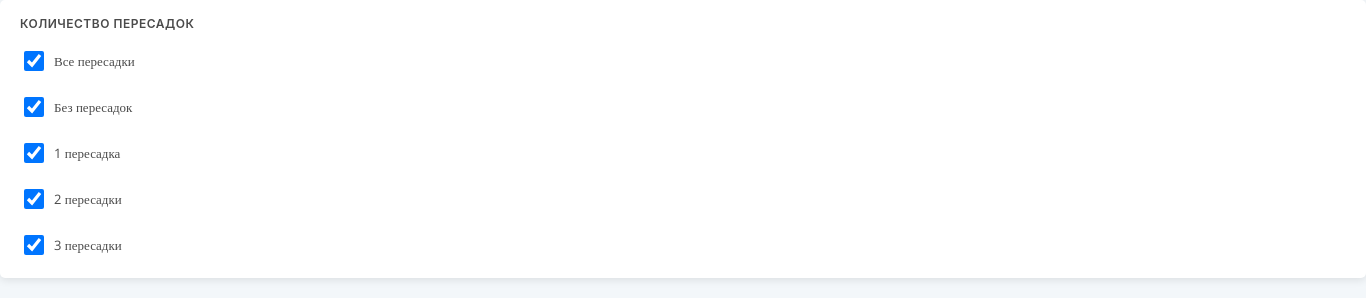
it: Filter › unchecks all checkboxes by unchecking on 'All stops' checkbox
The width and height of the screenshot is (1366, 298).
Expected: the checkbox labelled "Без пересадок" is checked, left=24, top=97, right=44, bottom=117
Expected: the checkbox labelled "1 пересадка" is checked, left=24, top=143, right=44, bottom=163
What coordinates should you click on to do the following:
click the checkbox labelled "Все пересадки"
I would click on:
 (34, 61)
Its box is left=24, top=51, right=44, bottom=71.
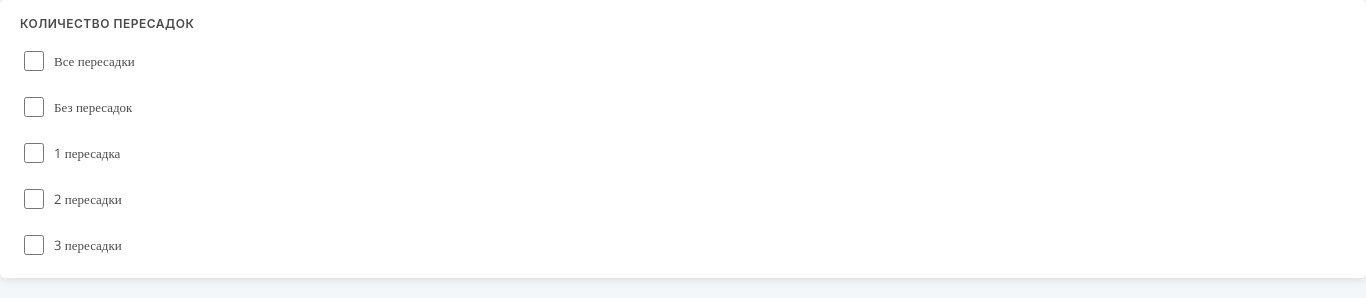
Expected: the checkbox labelled "Все пересадки" is not checked, left=24, top=51, right=44, bottom=71
Expected: the checkbox labelled "Без пересадок" is not checked, left=24, top=97, right=44, bottom=117
Expected: the checkbox labelled "1 пересадка" is not checked, left=24, top=143, right=44, bottom=163
